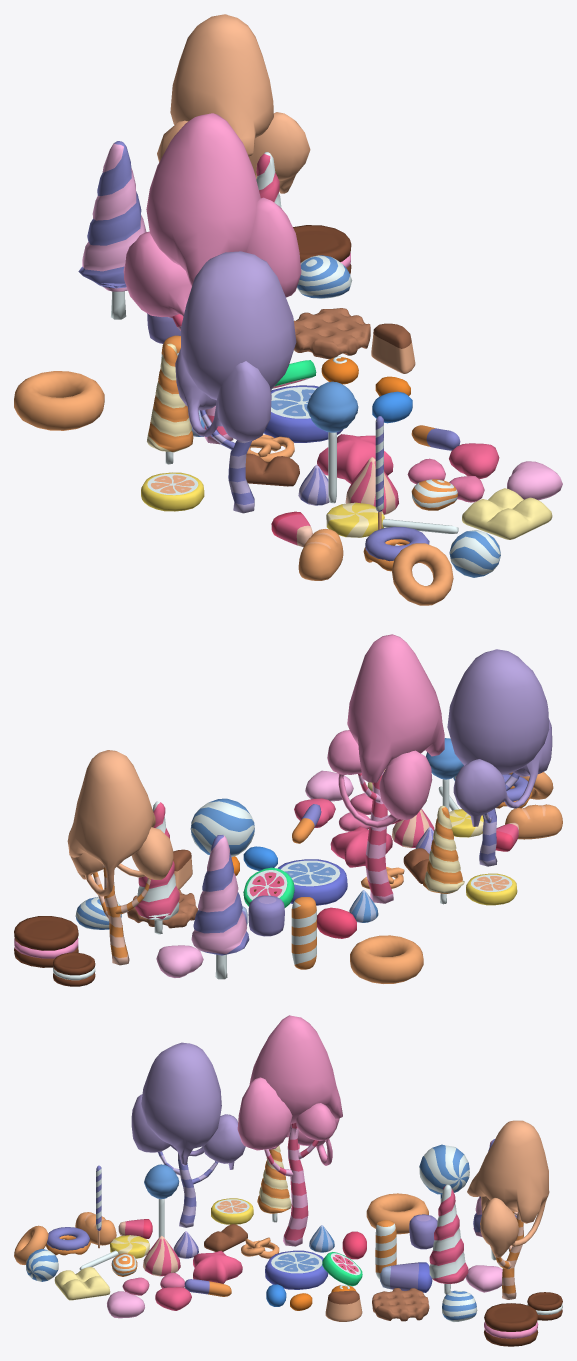
Rendered from customsecond.gltf.
The picture shows the model from 3 angles, top to bottom: view 1: azimuth 30°, elevation 25°; view 2: azimuth 150°, elevation 25°; view 3: azimuth 270°, elevation 25°; orthographic projection. The views are drawn at different scales.
Visible parts, largest first — view 1: Tree_CottonCandy_02_LOD1_Mat_Candy_0, Tree_CottonCandy_01_LOD1_Mat_Candy_0, Tree_CottonCandy_03_LOD1_Mat_Candy_0, Tree_Candy_01_LOD1_Mat_Candy Specular_0, Donut_A_03_LOD1_Mat_Pastry_0, Waffle_03_LOD1_Mat_Pastry_0, Tree_Candy_02_LOD1_Mat_Candy Specular_0, Chocwhite_03_LOD1_Mat_Candy Specular_0, Donut_A_06_LOD1_Mat_Pastry_0, Gummy_C_03_LOD1_Mat_Candy_0, Gummy_C_01_LOD1_Mat_Candy_0, Lollipop_A_01_LOD1_Mat_Candy Specular_0 (+22 smaller); view 2: Tree_CottonCandy_02_LOD1_Mat_Candy_0, Tree_CottonCandy_01_LOD1_Mat_Candy_0, Tree_CottonCandy_03_LOD1_Mat_Candy_0, Tree_Candy_01_LOD1_Mat_Candy Specular_0, Donut_A_03_LOD1_Mat_Pastry_0, Lolly_B_01_LOD1_Mat_Candy Specular_0, Biscuit_02_LOD1_Mat_Pastry_0, Gummy_C_03_LOD1_Mat_Candy_0, Tree_CottonCandy_02_LOD1_Mat_Candy Specular_0, Tree_Candy_02_LOD1_Mat_Candy Specular_0, Tree_Candy_06_LOD1_Mat_Candy Specular_0, Candybar_A_02_LOD1_Mat_Candy Specular_0 (+25 smaller); view 3: Tree_CottonCandy_02_LOD1_Mat_Candy_0, Tree_CottonCandy_01_LOD1_Mat_Candy_0, Tree_CottonCandy_03_LOD1_Mat_Candy_0, Tree_Candy_06_LOD1_Mat_Candy Specular_0, Tree_CottonCandy_02_LOD1_Mat_Candy Specular_0, Gummy_C_03_LOD1_Mat_Candy_0, Lolly_B_01_LOD1_Mat_Candy Specular_0, Biscuit_02_LOD1_Mat_Pastry_0, Donut_A_03_LOD1_Mat_Pastry_0, Waffle_03_LOD1_Mat_Pastry_0, Tree_Candy_02_LOD1_Mat_Candy Specular_0, Chocwhite_03_LOD1_Mat_Candy Specular_0 (+29 smaller).
Part boxes in pixels (bbox=[...]): Tree_CottonCandy_02_LOD1_Mat_Candy_0: bbox=[123, 113, 301, 318]; Tree_CottonCandy_01_LOD1_Mat_Candy_0: bbox=[175, 251, 296, 441]; Tree_CottonCandy_03_LOD1_Mat_Candy_0: bbox=[157, 14, 310, 193]; Tree_Candy_01_LOD1_Mat_Candy Specular_0: bbox=[78, 141, 146, 291]; Donut_A_03_LOD1_Mat_Pastry_0: bbox=[14, 371, 104, 430]; Waffle_03_LOD1_Mat_Pastry_0: bbox=[294, 308, 370, 358]; Tree_Candy_02_LOD1_Mat_Candy Specular_0: bbox=[147, 343, 193, 452]; Chocwhite_03_LOD1_Mat_Candy Specular_0: bbox=[462, 488, 552, 539]; Donut_A_06_LOD1_Mat_Pastry_0: bbox=[391, 543, 453, 605]; Gummy_C_03_LOD1_Mat_Candy_0: bbox=[264, 385, 343, 442]; Gummy_C_01_LOD1_Mat_Candy_0: bbox=[141, 472, 204, 511]; Lollipop_A_01_LOD1_Mat_Candy Specular_0: bbox=[307, 381, 358, 432]; Tree_CottonCandy_02_LOD1_Mat_Candy_0: bbox=[327, 634, 444, 828]; Tree_CottonCandy_01_LOD1_Mat_Candy_0: bbox=[447, 649, 552, 826]; Tree_CottonCandy_03_LOD1_Mat_Candy_0: bbox=[67, 750, 173, 896]; Tree_Candy_01_LOD1_Mat_Candy Specular_0: bbox=[191, 835, 249, 955]; Donut_A_03_LOD1_Mat_Pastry_0: bbox=[350, 935, 423, 983]; Lolly_B_01_LOD1_Mat_Candy Specular_0: bbox=[190, 798, 254, 857]; Biscuit_02_LOD1_Mat_Pastry_0: bbox=[14, 916, 78, 967]; Gummy_C_03_LOD1_Mat_Candy_0: bbox=[277, 859, 347, 905]; Tree_CottonCandy_02_LOD1_Mat_Candy Specular_0: bbox=[358, 771, 402, 903]; Tree_Candy_02_LOD1_Mat_Candy Specular_0: bbox=[423, 805, 464, 893]; Tree_Candy_06_LOD1_Mat_Candy Specular_0: bbox=[135, 801, 179, 920]; Candybar_A_02_LOD1_Mat_Candy Specular_0: bbox=[291, 897, 316, 969]; Tree_CottonCandy_02_LOD1_Mat_Candy_0: bbox=[237, 1015, 342, 1165]; Tree_CottonCandy_01_LOD1_Mat_Candy_0: bbox=[131, 1042, 245, 1169]; Tree_CottonCandy_03_LOD1_Mat_Candy_0: bbox=[467, 1120, 549, 1257]; Tree_Candy_06_LOD1_Mat_Candy Specular_0: bbox=[429, 1184, 468, 1283]; Tree_CottonCandy_02_LOD1_Mat_Candy Specular_0: bbox=[264, 1123, 318, 1246]; Gummy_C_03_LOD1_Mat_Candy_0: bbox=[265, 1250, 328, 1289]; Lolly_B_01_LOD1_Mat_Candy Specular_0: bbox=[419, 1144, 469, 1203]; Biscuit_02_LOD1_Mat_Pastry_0: bbox=[484, 1303, 538, 1346]; Donut_A_03_LOD1_Mat_Pastry_0: bbox=[366, 1193, 428, 1234]; Waffle_03_LOD1_Mat_Pastry_0: bbox=[372, 1288, 429, 1321]; Tree_Candy_02_LOD1_Mat_Candy Specular_0: bbox=[257, 1145, 291, 1213]; Chocwhite_03_LOD1_Mat_Candy Specular_0: bbox=[54, 1267, 110, 1300].
Bounding box in the file's own units: 57.16 × 48.99 × 97.34.
9 materials, 9 textured.
